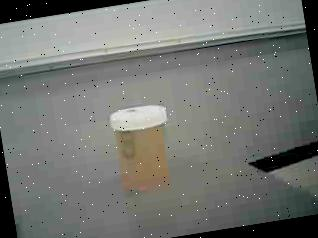Bottle B: (100, 96, 187, 204)
